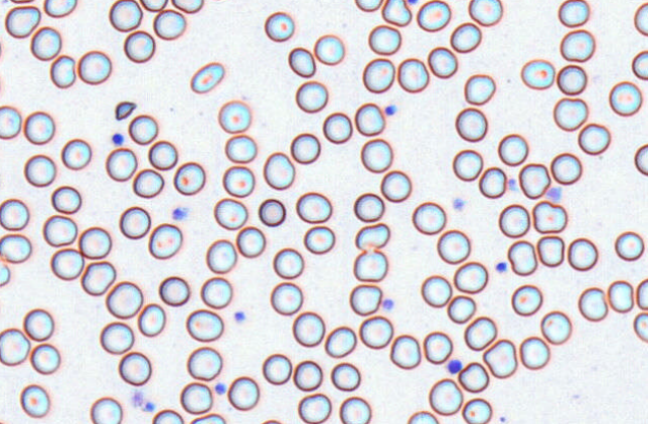PLT: (547, 185, 563, 204), (447, 357, 463, 375), (171, 206, 190, 220), (380, 298, 394, 317), (212, 381, 228, 397), (452, 196, 466, 212), (110, 131, 125, 145), (142, 401, 157, 413), (234, 311, 247, 324), (496, 259, 508, 273), (383, 104, 397, 116)
RBC: (105, 280, 143, 319), (482, 338, 517, 378), (80, 260, 116, 295), (428, 378, 462, 415), (185, 308, 223, 341), (263, 151, 295, 190), (553, 96, 588, 131), (186, 346, 222, 380), (148, 223, 182, 259), (608, 80, 642, 116), (463, 316, 497, 351), (436, 229, 470, 264), (4, 5, 40, 38), (292, 311, 325, 347), (362, 57, 395, 93), (559, 29, 595, 62), (518, 162, 550, 199), (295, 191, 332, 223), (0, 327, 30, 366), (359, 315, 393, 349), (77, 50, 111, 84), (99, 321, 134, 354), (532, 200, 567, 233), (411, 201, 446, 234), (397, 57, 429, 93), (50, 247, 84, 280), (270, 281, 303, 315), (118, 351, 151, 385), (213, 197, 247, 230), (218, 99, 251, 133), (389, 334, 421, 369), (42, 214, 77, 246), (453, 261, 488, 293), (455, 107, 487, 142), (520, 58, 555, 90), (295, 80, 328, 113), (78, 226, 111, 259), (577, 122, 610, 155), (353, 249, 387, 281), (108, 0, 142, 32), (227, 376, 259, 410), (105, 147, 137, 181), (498, 203, 530, 237), (360, 138, 392, 172), (173, 161, 205, 195), (190, 61, 224, 93), (205, 238, 236, 273), (577, 286, 608, 321), (507, 239, 537, 275), (180, 381, 212, 414), (420, 274, 452, 307), (153, 8, 186, 40), (123, 30, 155, 63), (550, 152, 582, 185), (30, 26, 61, 60), (119, 205, 150, 239), (416, 0, 450, 31), (519, 336, 550, 370), (540, 310, 571, 344), (23, 110, 54, 144), (567, 237, 598, 271), (457, 361, 489, 393), (324, 325, 356, 357), (200, 276, 232, 308), (222, 165, 254, 197), (463, 73, 495, 105), (349, 284, 382, 315), (23, 308, 54, 341), (380, 169, 411, 202), (368, 24, 401, 55), (497, 133, 528, 166), (297, 393, 331, 423), (20, 383, 50, 417), (354, 102, 384, 136), (272, 247, 303, 279), (511, 284, 542, 316), (452, 149, 483, 181), (24, 154, 55, 186), (261, 353, 292, 384), (313, 34, 344, 65), (158, 275, 189, 306), (450, 22, 481, 53), (132, 168, 164, 198), (235, 225, 265, 257), (61, 138, 91, 170), (427, 46, 457, 78), (322, 111, 352, 143), (290, 132, 320, 164), (423, 331, 452, 364), (0, 233, 31, 263), (30, 343, 60, 374), (353, 192, 384, 222), (147, 139, 177, 170), (614, 230, 644, 261), (556, 64, 586, 95), (0, 198, 29, 230), (303, 225, 335, 254), (224, 134, 256, 163), (137, 303, 165, 336), (49, 54, 76, 88), (128, 114, 158, 144), (264, 11, 294, 41), (293, 360, 322, 391), (478, 166, 506, 198), (536, 235, 564, 267), (89, 396, 122, 423), (607, 280, 634, 313), (468, 0, 502, 26), (330, 362, 360, 391), (51, 185, 81, 214), (287, 46, 315, 77), (339, 396, 371, 423), (557, 0, 589, 27), (446, 294, 475, 323), (461, 397, 492, 423), (258, 198, 286, 226), (381, 0, 411, 26), (0, 105, 21, 139), (43, 0, 76, 17), (631, 49, 647, 80), (152, 408, 183, 423), (634, 2, 647, 36), (633, 311, 647, 342), (634, 143, 647, 175), (171, 0, 203, 13), (407, 410, 438, 423), (636, 278, 648, 310), (190, 413, 225, 423), (354, 0, 382, 12), (140, 0, 167, 11), (0, 260, 10, 286), (0, 71, 5, 98), (260, 418, 282, 423), (0, 35, 4, 62), (9, 0, 35, 4), (0, 169, 4, 191), (0, 294, 3, 318), (404, 0, 419, 4), (206, 0, 230, 2)
Schistocyte: (352, 223, 393, 251), (116, 102, 136, 119)
